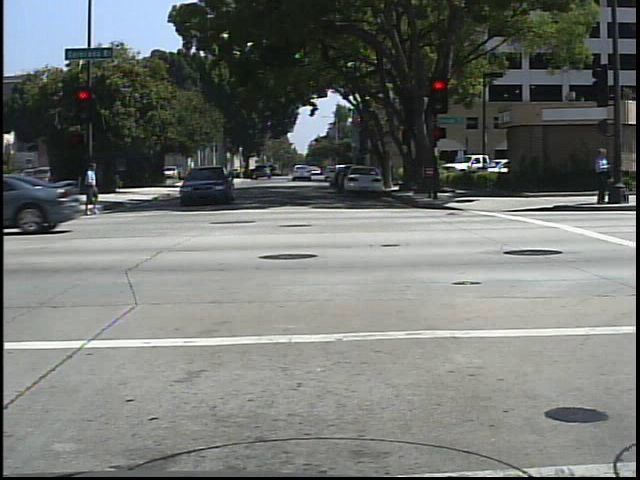person: (76, 158, 108, 222), (590, 143, 616, 208)
